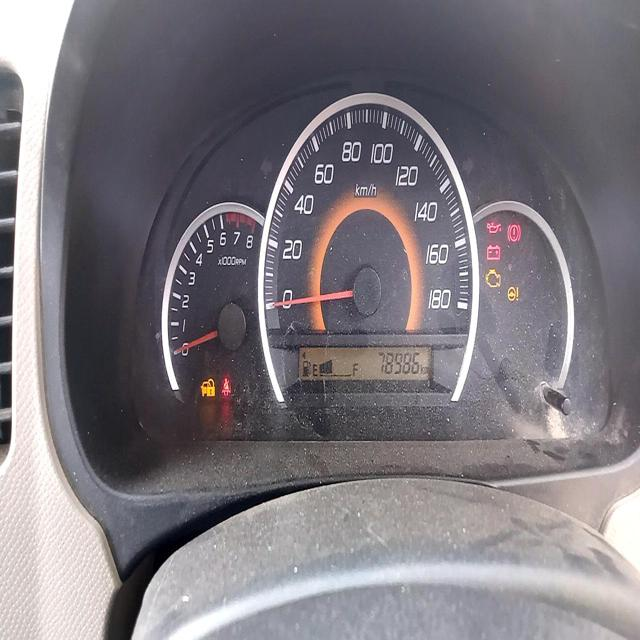odometer: (378, 348, 421, 378)
